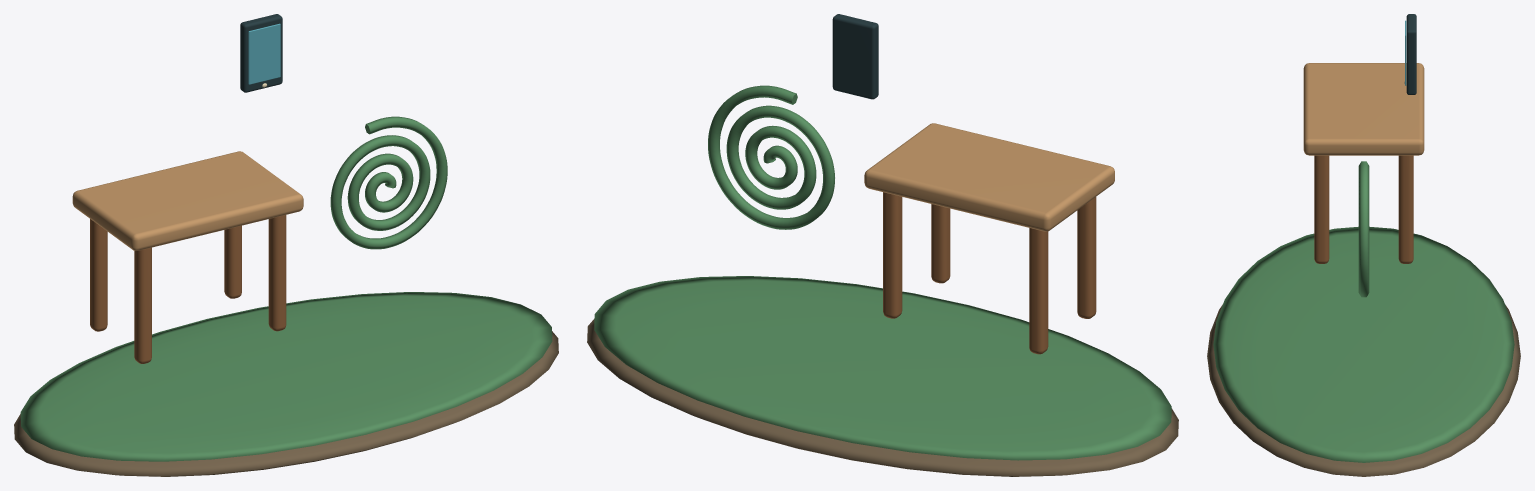
Rendered from complete-third-occupied-telephone-line.glb.
3 renders of one model, left to right at view 1: azimuth 30°, elevation 25°; view 2: azimuth 150°, elevation 25°; view 3: azimuth 270°, elevation 25°, orthographic. The views are drawn at different scales.
Visible parts, largest first — view 1: complete-third-occupied-telephone-line_surface_01, complete-third-occupied-telephone-line_surface_02, complete-third-occupied-telephone-line_surface_00, complete-third-occupied-telephone-line_surface_03, complete-third-occupied-telephone-line_surface_05, complete-third-occupied-telephone-line_surface_04; view 2: complete-third-occupied-telephone-line_surface_01, complete-third-occupied-telephone-line_surface_02, complete-third-occupied-telephone-line_surface_00, complete-third-occupied-telephone-line_surface_03, complete-third-occupied-telephone-line_surface_04; view 3: complete-third-occupied-telephone-line_surface_01, complete-third-occupied-telephone-line_surface_02, complete-third-occupied-telephone-line_surface_00, complete-third-occupied-telephone-line_surface_03, complete-third-occupied-telephone-line_surface_04.
Part boxes in pixels (bbox=[...]): complete-third-occupied-telephone-line_surface_01: bbox=[20, 116, 552, 461]; complete-third-occupied-telephone-line_surface_02: bbox=[72, 151, 303, 250]; complete-third-occupied-telephone-line_surface_00: bbox=[14, 331, 558, 476]; complete-third-occupied-telephone-line_surface_03: bbox=[90, 215, 286, 363]; complete-third-occupied-telephone-line_surface_05: bbox=[248, 23, 280, 84]; complete-third-occupied-telephone-line_surface_04: bbox=[240, 14, 282, 92]; complete-third-occupied-telephone-line_surface_01: bbox=[594, 85, 1171, 460]; complete-third-occupied-telephone-line_surface_02: bbox=[864, 123, 1114, 231]; complete-third-occupied-telephone-line_surface_00: bbox=[587, 319, 1178, 476]; complete-third-occupied-telephone-line_surface_03: bbox=[883, 192, 1096, 354]; complete-third-occupied-telephone-line_surface_04: bbox=[832, 14, 878, 99]; complete-third-occupied-telephone-line_surface_01: bbox=[1213, 161, 1514, 462]; complete-third-occupied-telephone-line_surface_02: bbox=[1303, 63, 1424, 155]; complete-third-occupied-telephone-line_surface_00: bbox=[1207, 304, 1520, 476]; complete-third-occupied-telephone-line_surface_03: bbox=[1314, 155, 1413, 263]; complete-third-occupied-telephone-line_surface_04: bbox=[1406, 14, 1416, 94].
Size of the model in its own units: 4.56 by 3.07 by 2.5.
